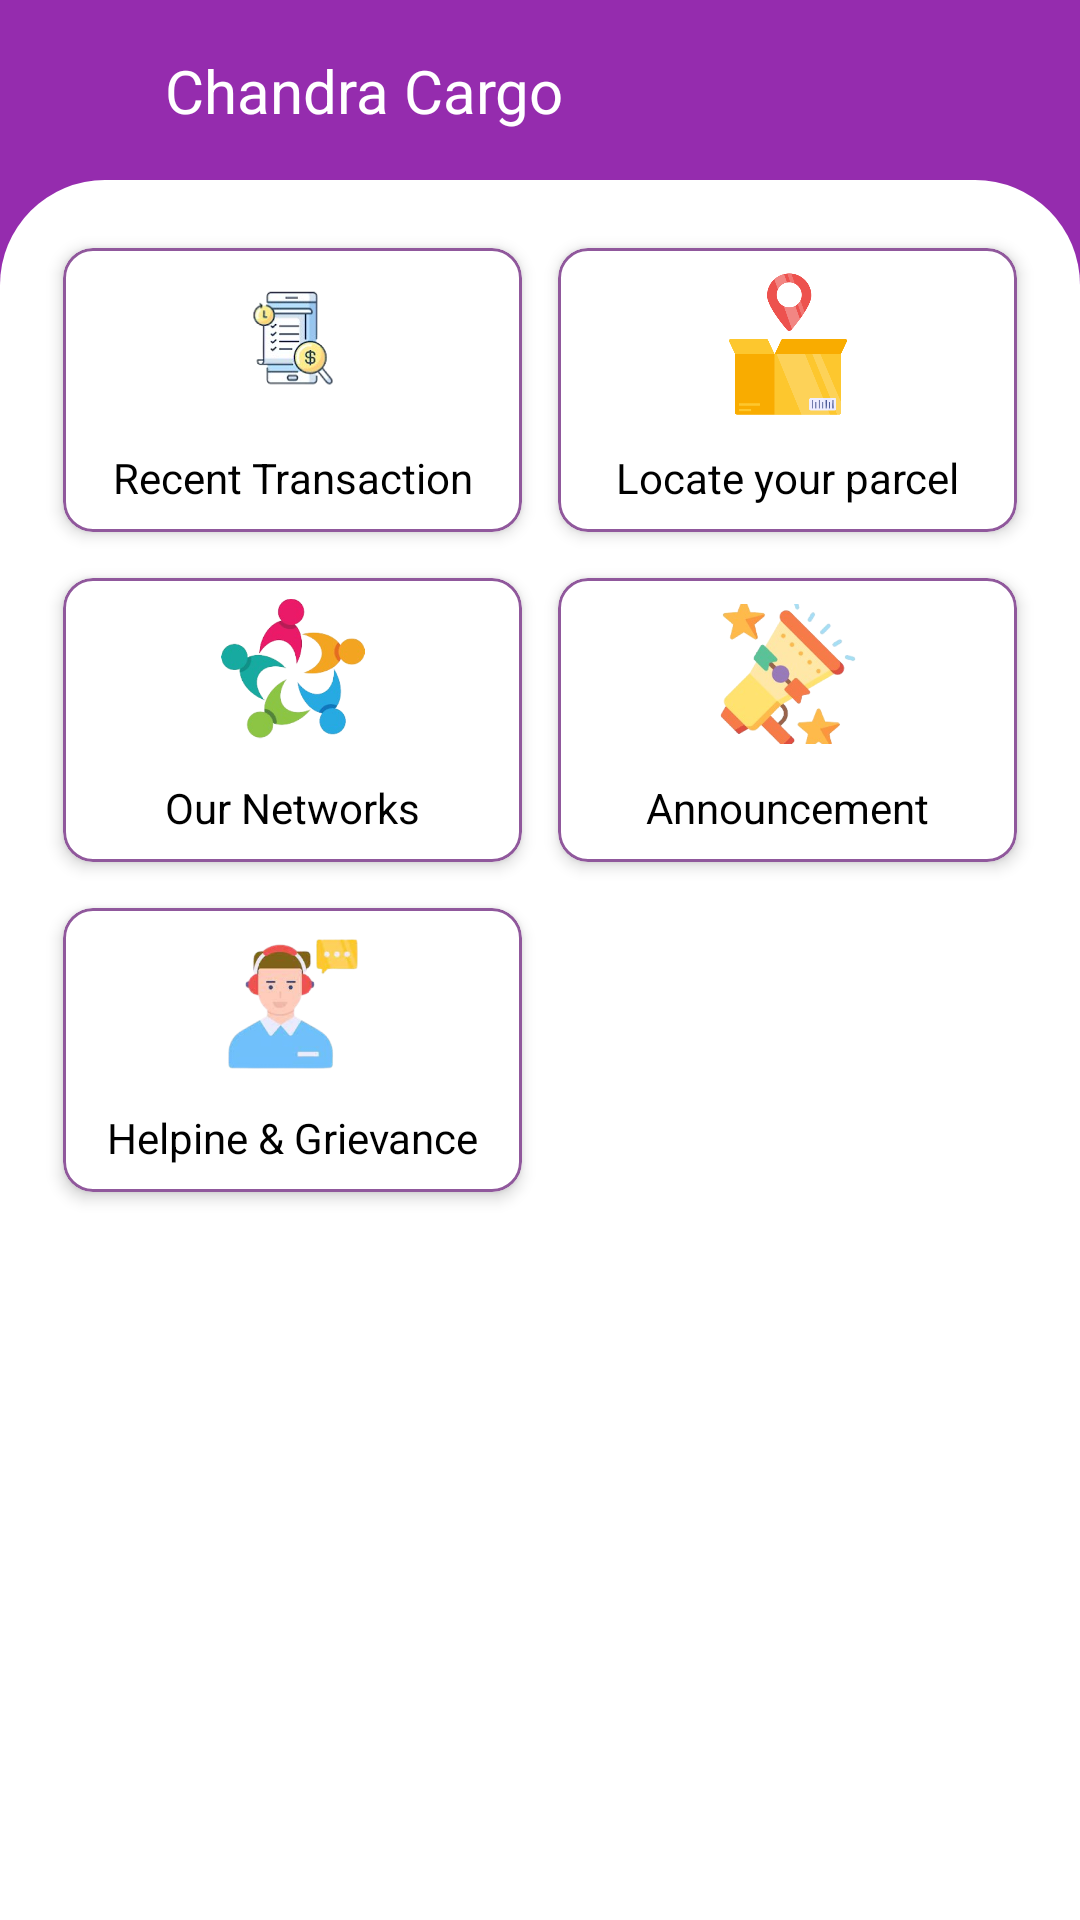

Named icons in this screenshot (1080px x 1920px) and their bounding boxes, (x1, y1, x2, y2):
helpline: (228, 939, 358, 1069)
tracking: (729, 273, 847, 415)
